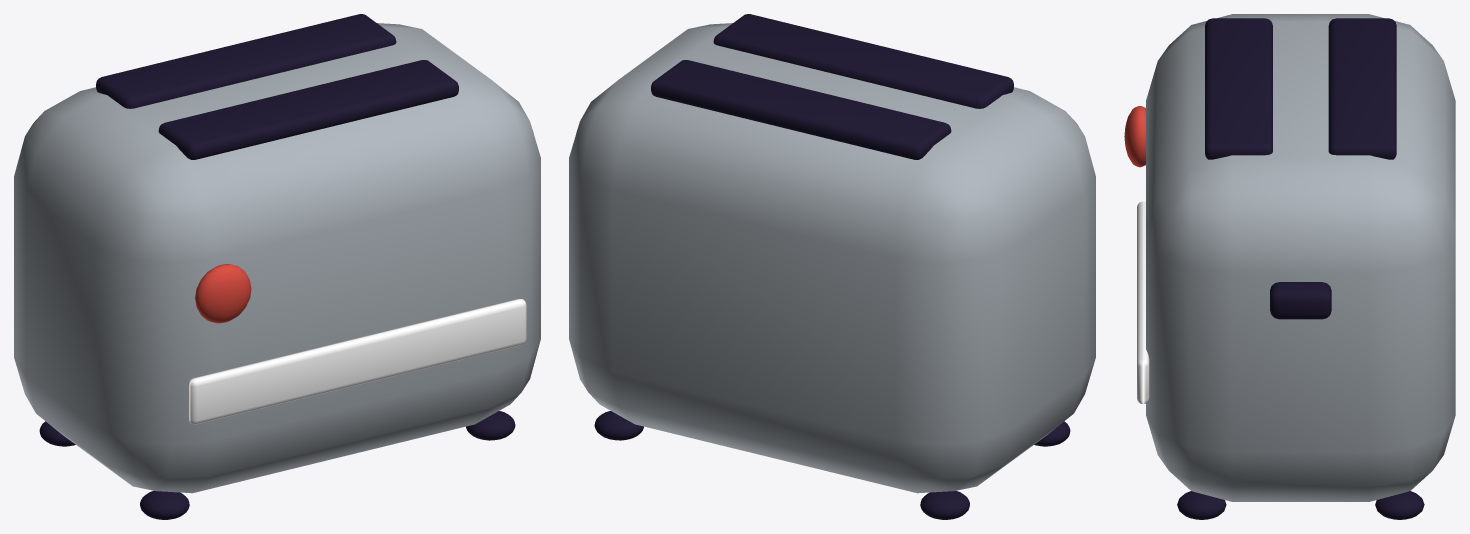
Rendered from toaster.glb.
3 renders of one model, left to right at view 1: azimuth 30°, elevation 25°; view 2: azimuth 150°, elevation 25°; view 3: azimuth 270°, elevation 25°, orthographic.
Parts seen in each view (by area): view 1: toaster-metall, toaster-matt, toaster-akzent, toaster-lack; view 2: toaster-metall, toaster-matt; view 3: toaster-metall, toaster-matt, toaster-lack, toaster-akzent.
Part boxes in pixels (x1,y1,x2,y2): toaster-metall: [14, 23, 540, 493]; toaster-matt: [39, 14, 515, 519]; toaster-akzent: [188, 299, 526, 424]; toaster-lack: [195, 264, 251, 323]; toaster-metall: [569, 23, 1095, 493]; toaster-matt: [594, 14, 1070, 519]; toaster-metall: [1146, 14, 1455, 501]; toaster-matt: [1177, 18, 1424, 519]; toaster-lack: [1124, 106, 1331, 319]; toaster-akzent: [1137, 201, 1149, 404].
Size of the model in its own units: 0.85 by 0.635 by 0.535.
